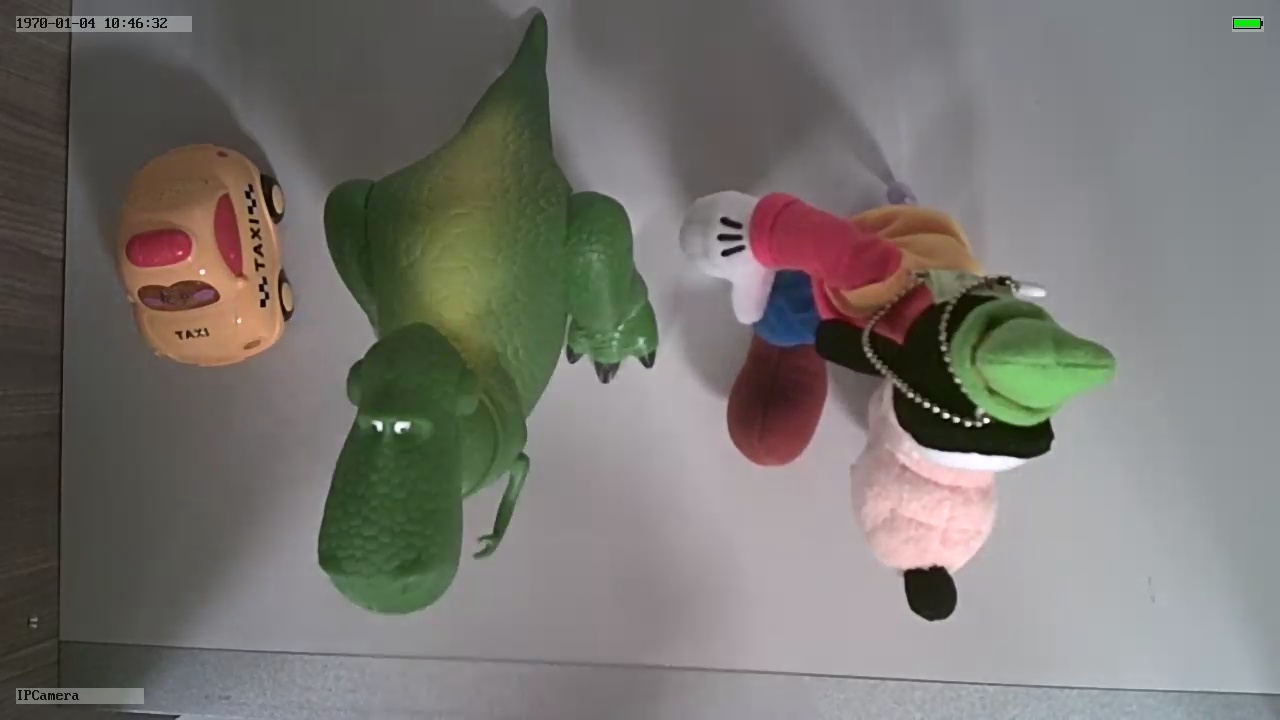car: (112, 139, 297, 370)
goofy: (675, 186, 1119, 627)
rex: (319, 95, 658, 617)
